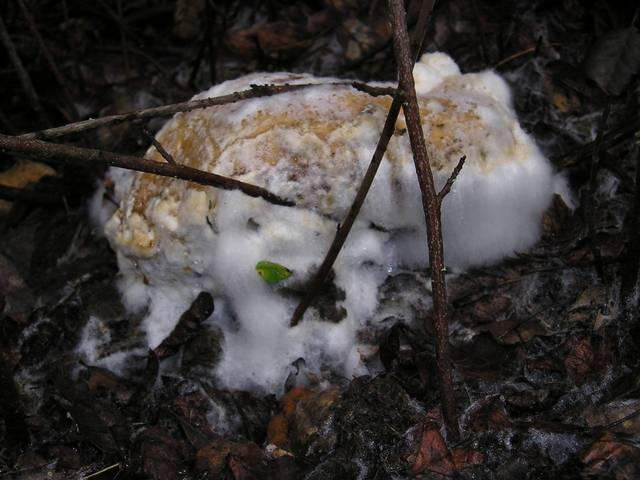Edible Mushroom: (94, 50, 566, 394)
